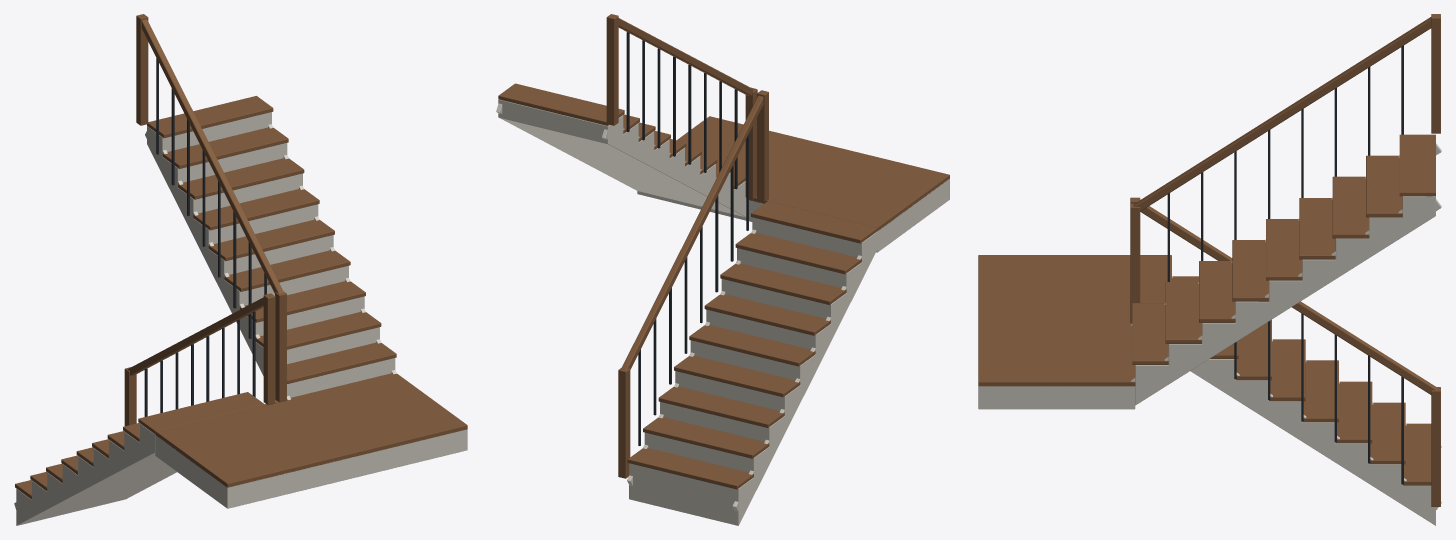
The model's file is staircase-v001.glb.
The picture shows the model from 3 angles, left to right: view 1: azimuth 30°, elevation 25°; view 2: azimuth 150°, elevation 25°; view 3: azimuth 270°, elevation 25°; orthographic projection. The views are drawn at different scales.
Visible parts, largest first — view 1: Export Flight 0 oak tread 01; view 2: Export Flight 0 oak tread 01; view 3: Export Flight 0 oak tread 01.
Part boxes in pixels (x1,y1,x2,y2): Export Flight 0 oak tread 01: (14, 14, 467, 525); Export Flight 0 oak tread 01: (496, 14, 949, 525); Export Flight 0 oak tread 01: (978, 14, 1441, 525).
Size of the model in its own units: 2.3 by 4.38 by 3.54.
